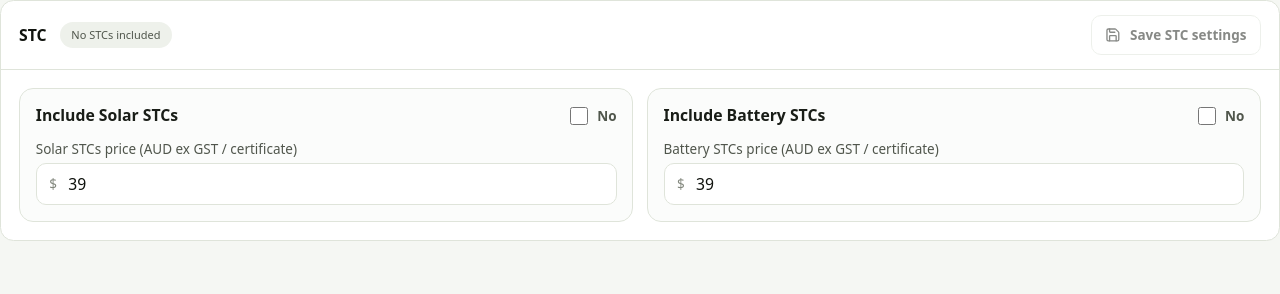
Scenario: CiRebateProfilePanel › requires positive prices before saving
This screenshot has width=1280, height=294.
Expected: the heading "STC" is shown, [19,24,46,46]
Click the checkbox labelled "Include Solar STCs".
click(579, 116)  # box [570,106,588,124]
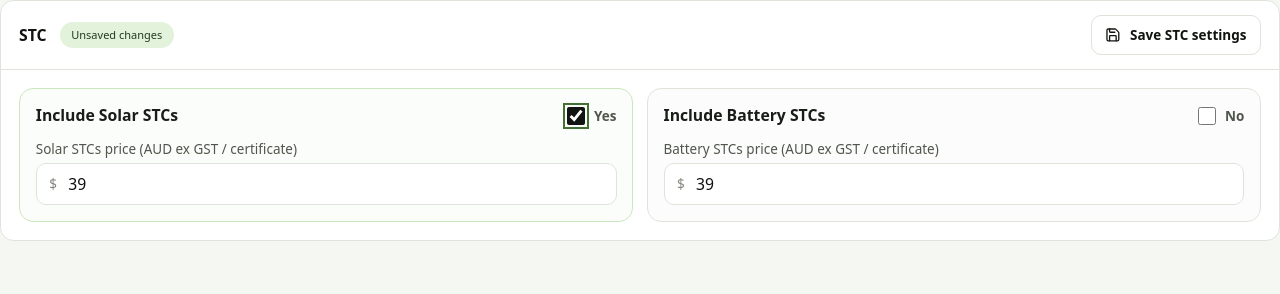
Clear the number field labelled "Solar STCs price" at point(326, 184), box [36,163,617,205]
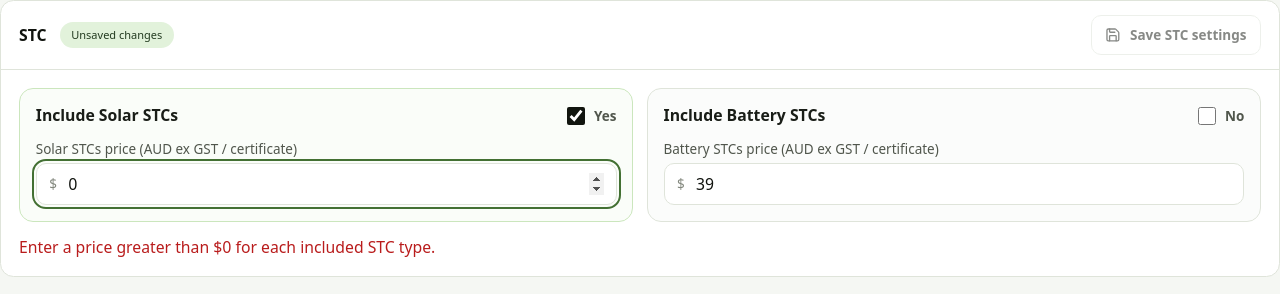
Result: the text "Enter a price greater than $0 for each included STC type." is shown at [19,236,435,258]
Result: the button "Save STC settings" is disabled at [1091,14,1261,55]
